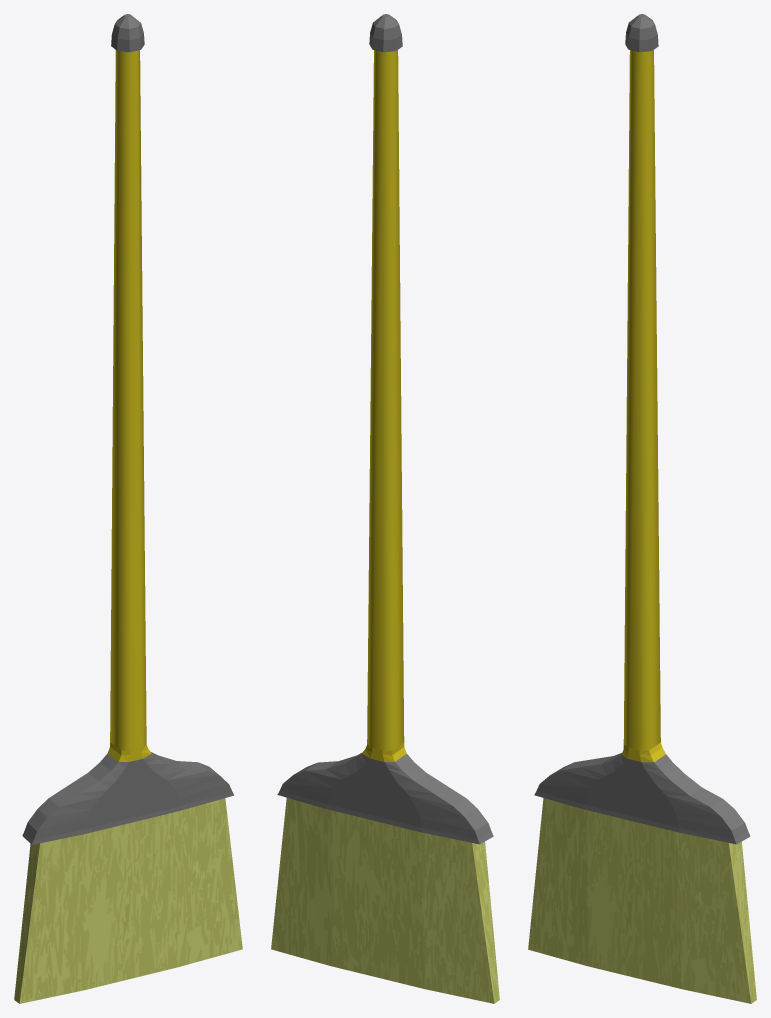
Rendered from Broom.FBX.
3 views of the same model, side by side, from view 1: azimuth 30°, elevation 25°; view 2: azimuth 150°, elevation 25°; view 3: azimuth 330°, elevation 25° (orthographic).
Visible parts, largest first — view 1: Object018; view 2: Object018; view 3: Object018.
Part boxes in pixels (x1=…): Object018: x1=14, y1=14, x2=242, y2=1003; Object018: x1=271, y1=14, x2=499, y2=1003; Object018: x1=528, y1=14, x2=756, y2=1003.
Size of the model in its own units: 334 by 1369 by 41.46.
